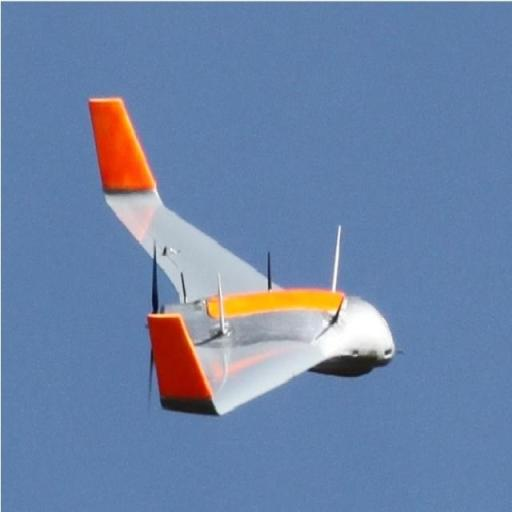uav: (79, 82, 433, 439)
